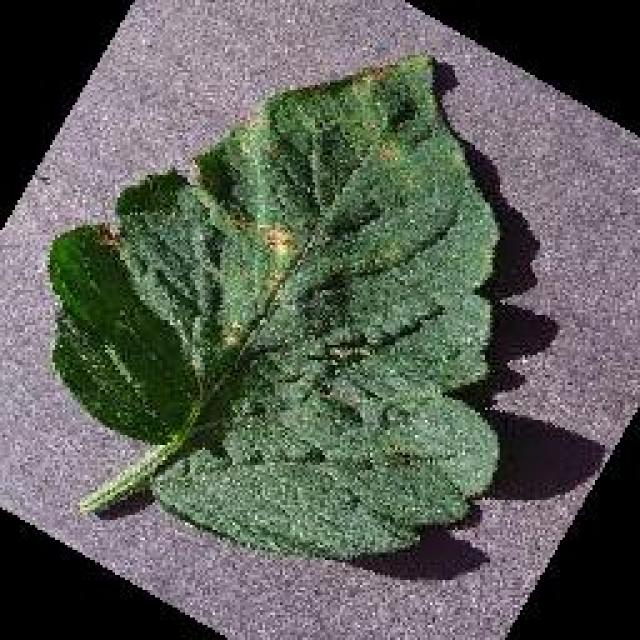Tomato___Target_Spot: (52, 55, 498, 558)
